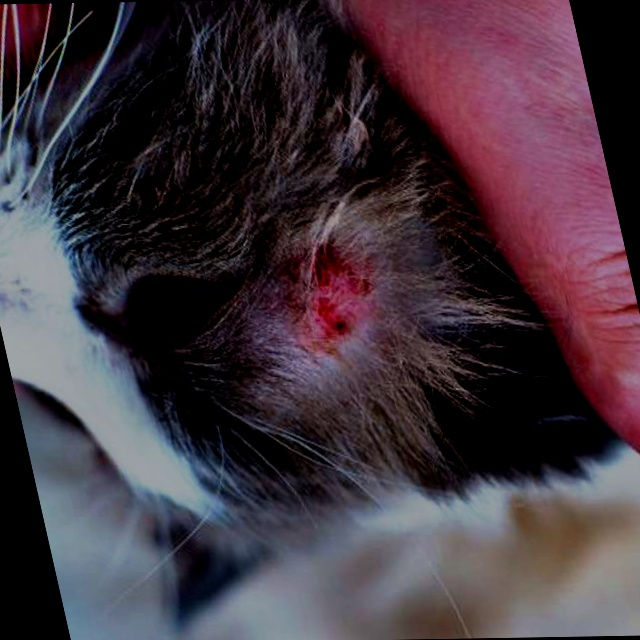ringworm: (293, 241, 387, 355)
